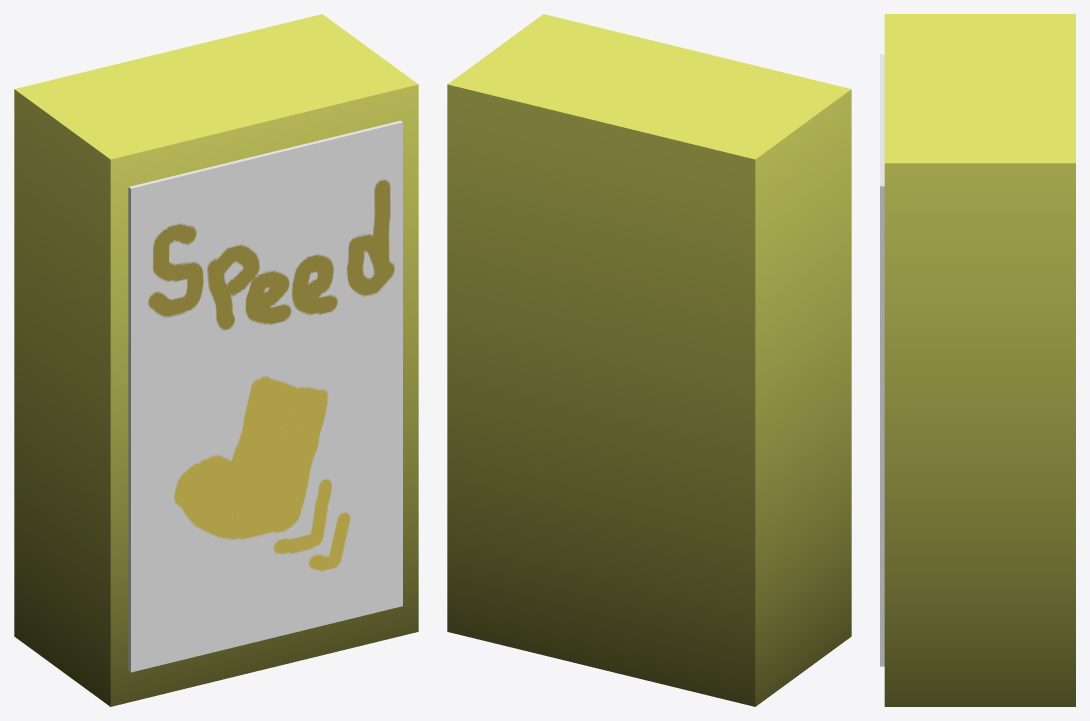
File: Speed Upgrade.glb
3 renders of one model, left to right at view 1: azimuth 30°, elevation 25°; view 2: azimuth 150°, elevation 25°; view 3: azimuth 270°, elevation 25°, orthographic.
Parts seen in each view (by area): view 1: Cube.001, Cube; view 2: Cube; view 3: Cube, Cube.001.
Boxes of the visible parts, bbox=[...] form: Cube.001: bbox=[128, 120, 402, 672]; Cube: bbox=[14, 14, 418, 706]; Cube: bbox=[447, 14, 851, 706]; Cube: bbox=[884, 14, 1075, 706]; Cube.001: bbox=[880, 54, 884, 666].
Size of the model in its own units: 1.07 by 1.81 by 0.5908.
2 materials, 2 textured.
